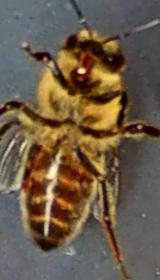varroa_mite: (14, 164, 42, 198)
